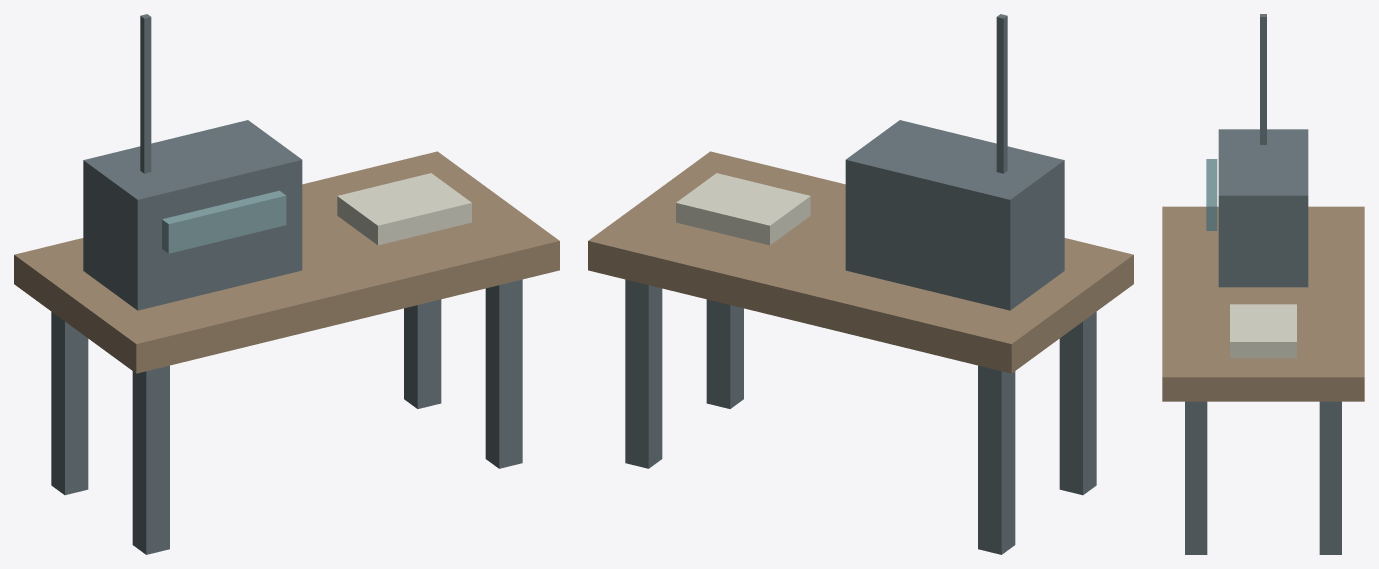
File: zombie-quarantine-streets-radio-desk-bd2573e2__19347.glb
The picture shows the model from 3 angles, left to right: view 1: azimuth 30°, elevation 25°; view 2: azimuth 150°, elevation 25°; view 3: azimuth 270°, elevation 25°; orthographic projection. The views are drawn at different scales.
Visible parts, largest first — view 1: radio-desk; view 2: radio-desk; view 3: radio-desk.
Part boxes in pixels (<box>): radio-desk: <box>14,14,559,554</box>; radio-desk: <box>588,14,1133,554</box>; radio-desk: <box>1162,14,1364,554</box>.
Size of the model in its own units: 1.8 by 2 by 0.9001.
